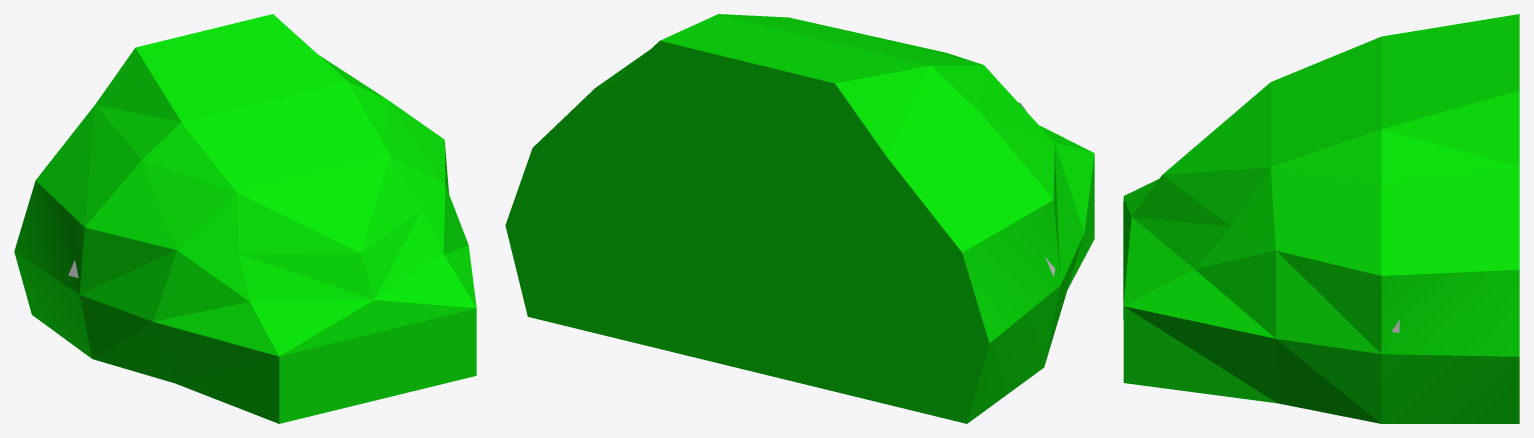
Rendered from A330_INTERIOR_LOD03.gltf.
The picture shows the model from 3 angles, left to right: view 1: azimuth 30°, elevation 25°; view 2: azimuth 150°, elevation 25°; view 3: azimuth 270°, elevation 25°; orthographic projection. The views are drawn at different scales.
Visible parts, largest first — view 1: Occluder; view 2: Occluder; view 3: Occluder.
Part boxes in pixels (x1,y1,x2,y2): Occluder: (14, 14, 476, 423); Occluder: (505, 14, 1094, 423); Occluder: (1123, 14, 1519, 423).
Size of what is drawn, in the model's own units: 3.72 by 2.27 by 2.95.
